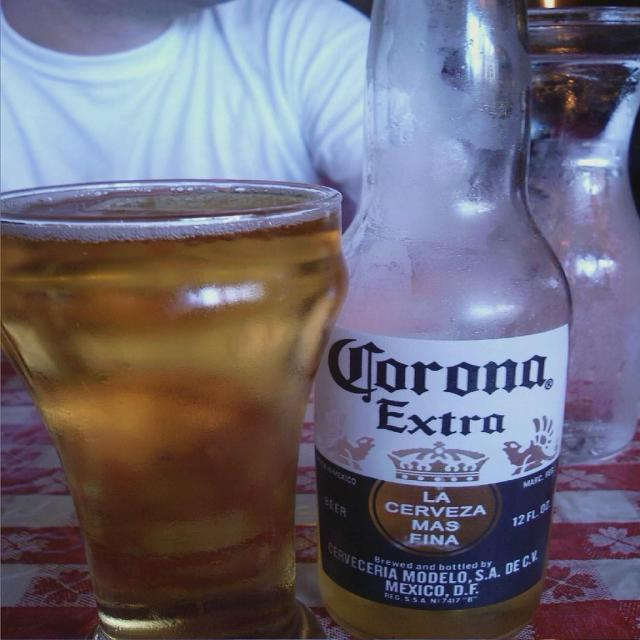corona: (307, 325, 570, 614)
